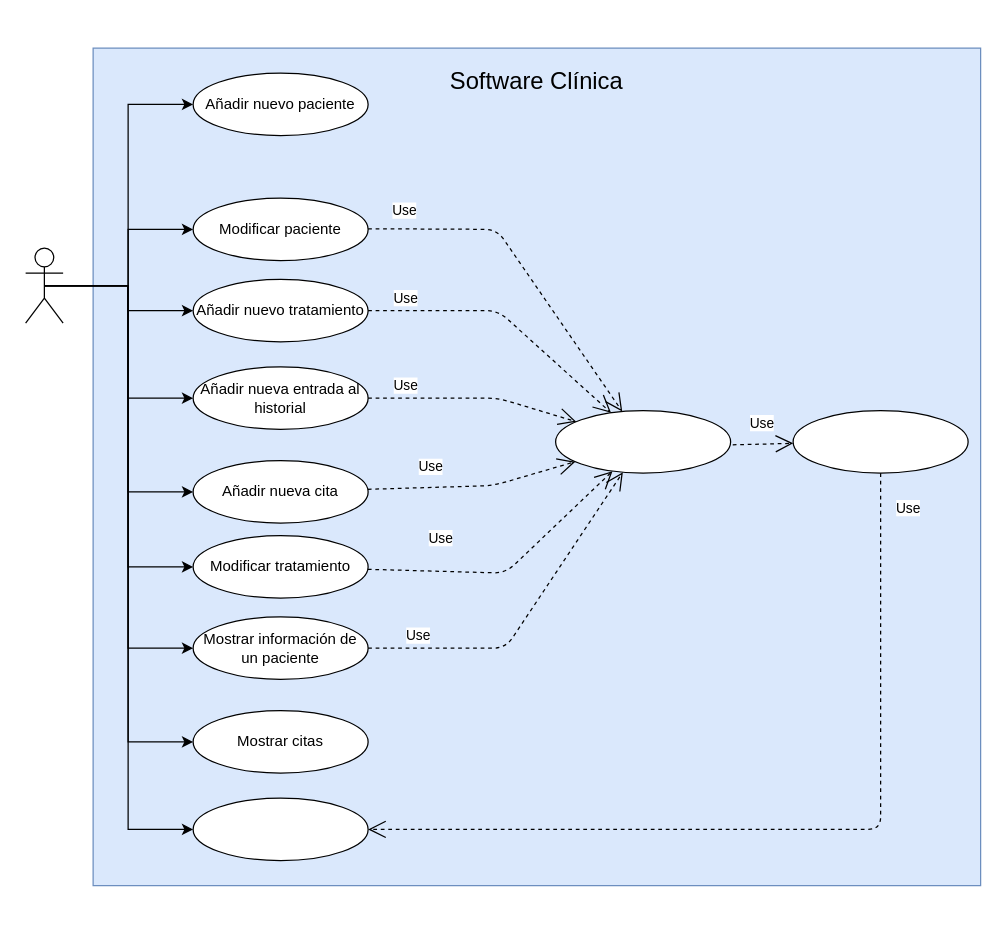
The diagram is 1003 pixels wide and 934 high, and some of its shapes have lost their labels. Each missing label, with the box of its shape:
Buscar paciente: (792, 409, 968, 473)
Clínica: (24, 247, 63, 323)
Mostrar pacientes: (192, 797, 368, 861)
Seleccionar un paciente: (554, 409, 731, 473)
